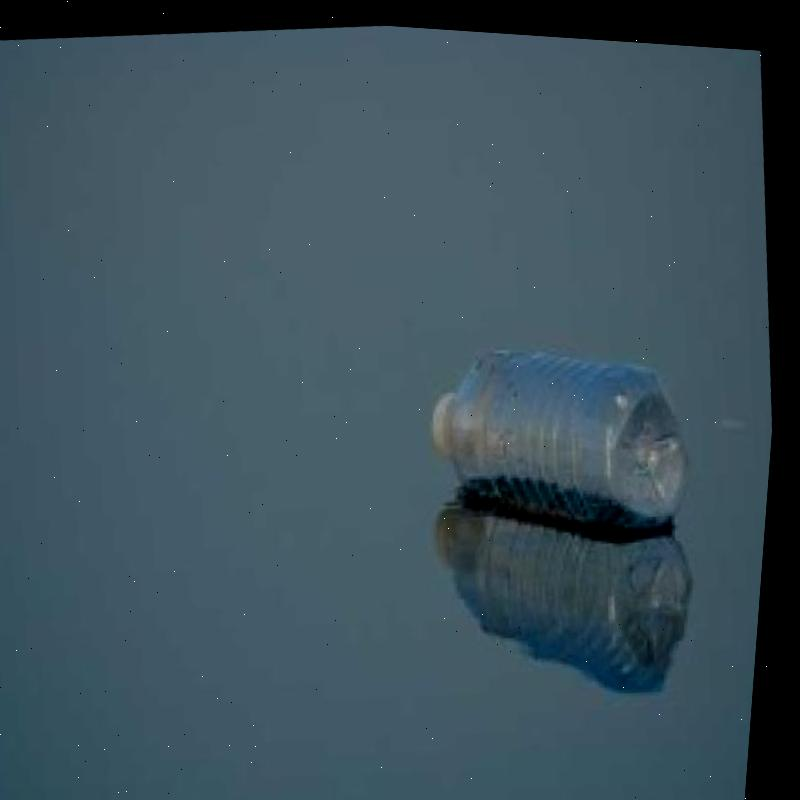botella: (420, 318, 708, 549)
